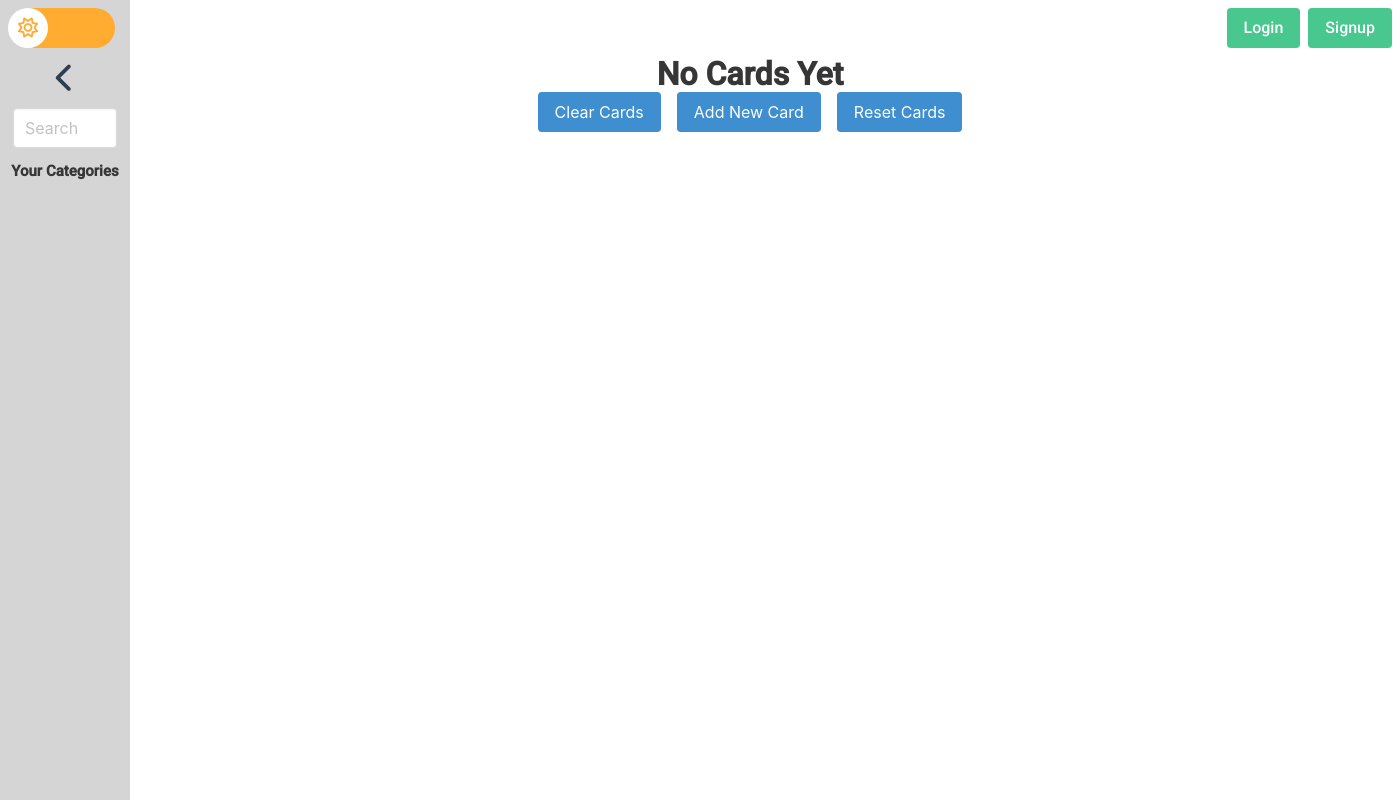
Test: sidebar-screenshot › closes the sidebar clicking the chevron arrow
This screenshot has width=1400, height=800.
Click the icon with class "fa-chevron-left" at (65, 78), box [15,63,115,93]
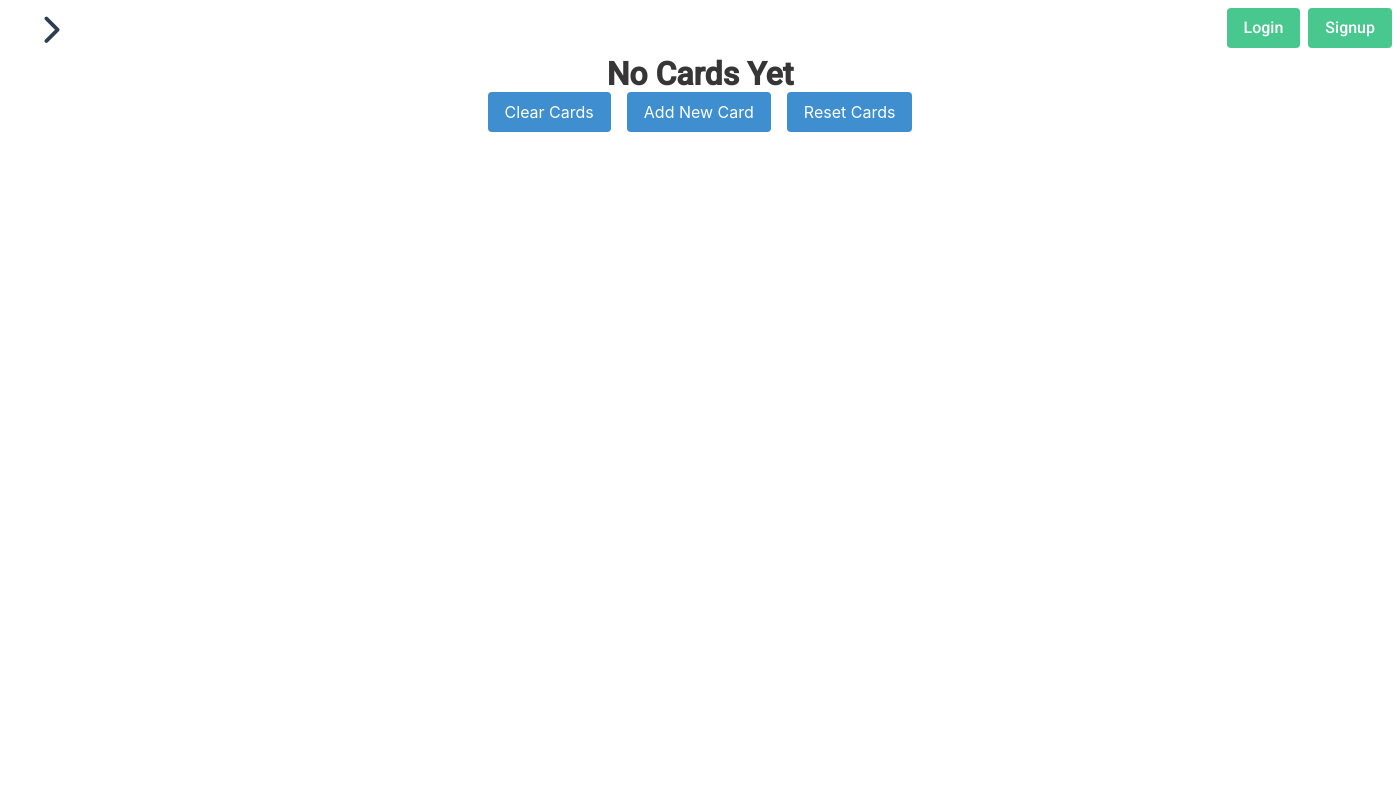
Check: the number of icons with class "fa-chevron-right" is 1, box [30,15,70,45]
